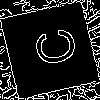C: (24, 25, 79, 71)
